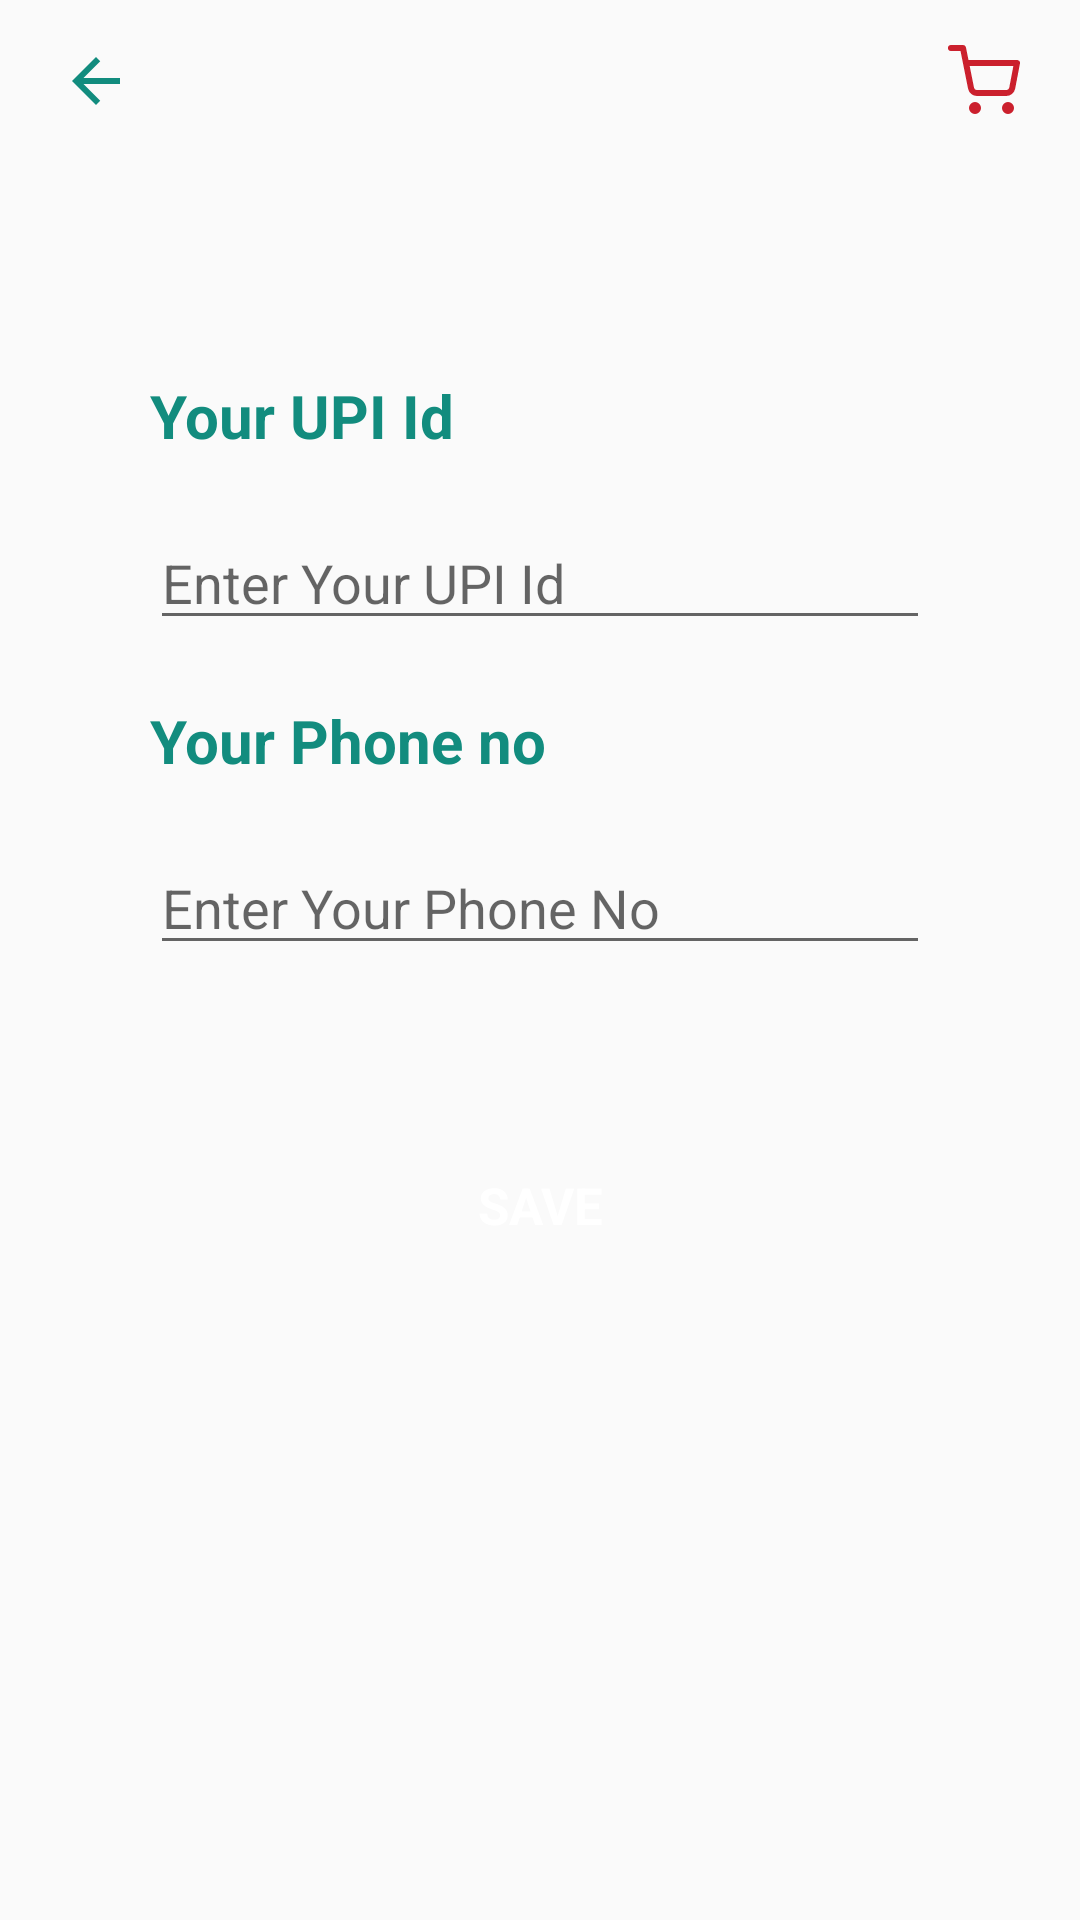

Locate icon controls on the screen. Image size 1080 × 1920, boxes as (x1, y1, x2, y2).
arrow back: (72, 57, 120, 105)
food cart: (948, 45, 1020, 114)
